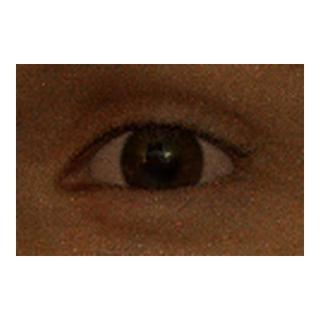pupil: (145, 145, 177, 177)
